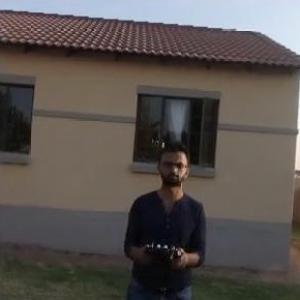follow: (115, 130, 206, 299)
